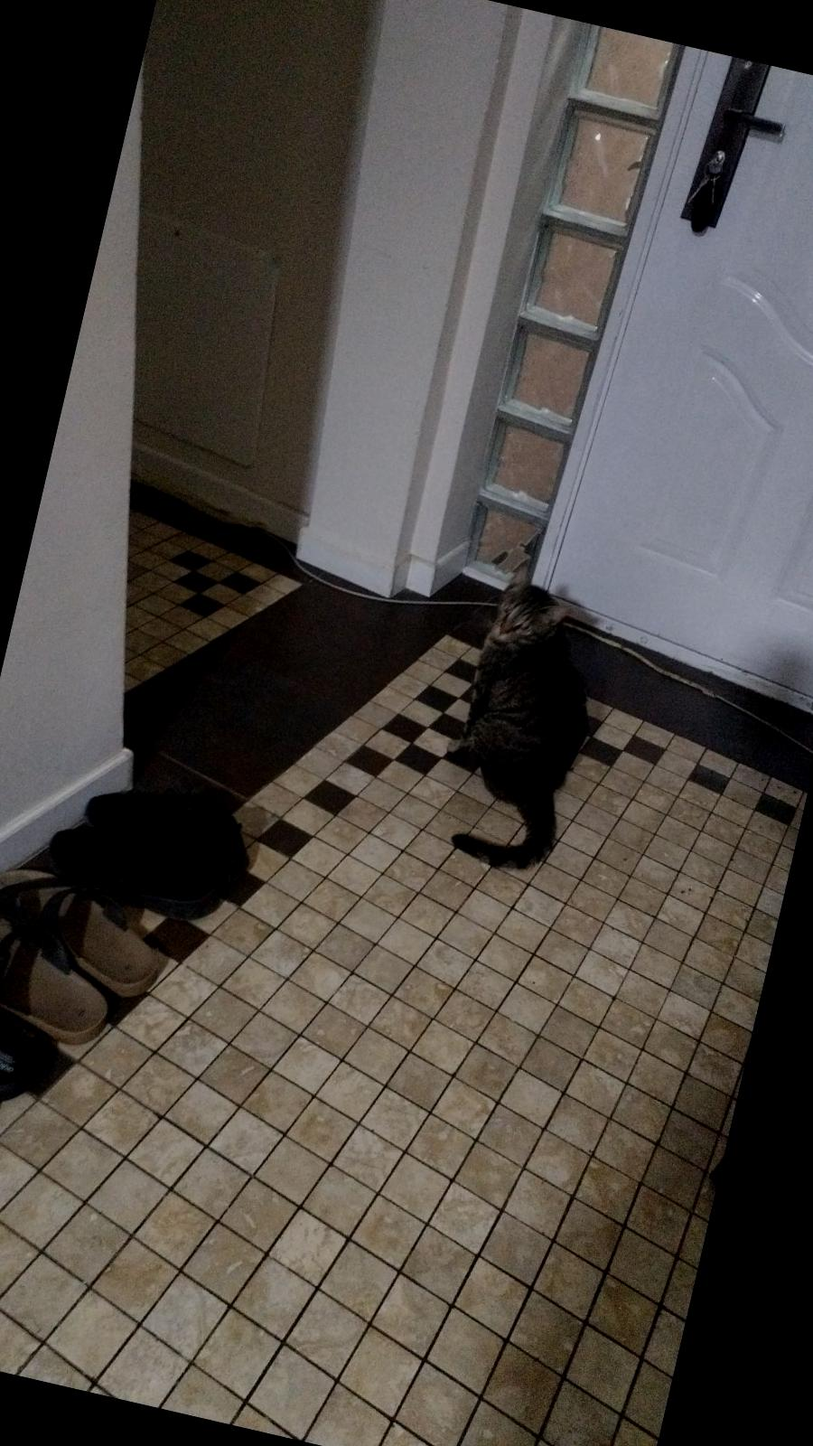macka: (421, 556, 623, 881)
